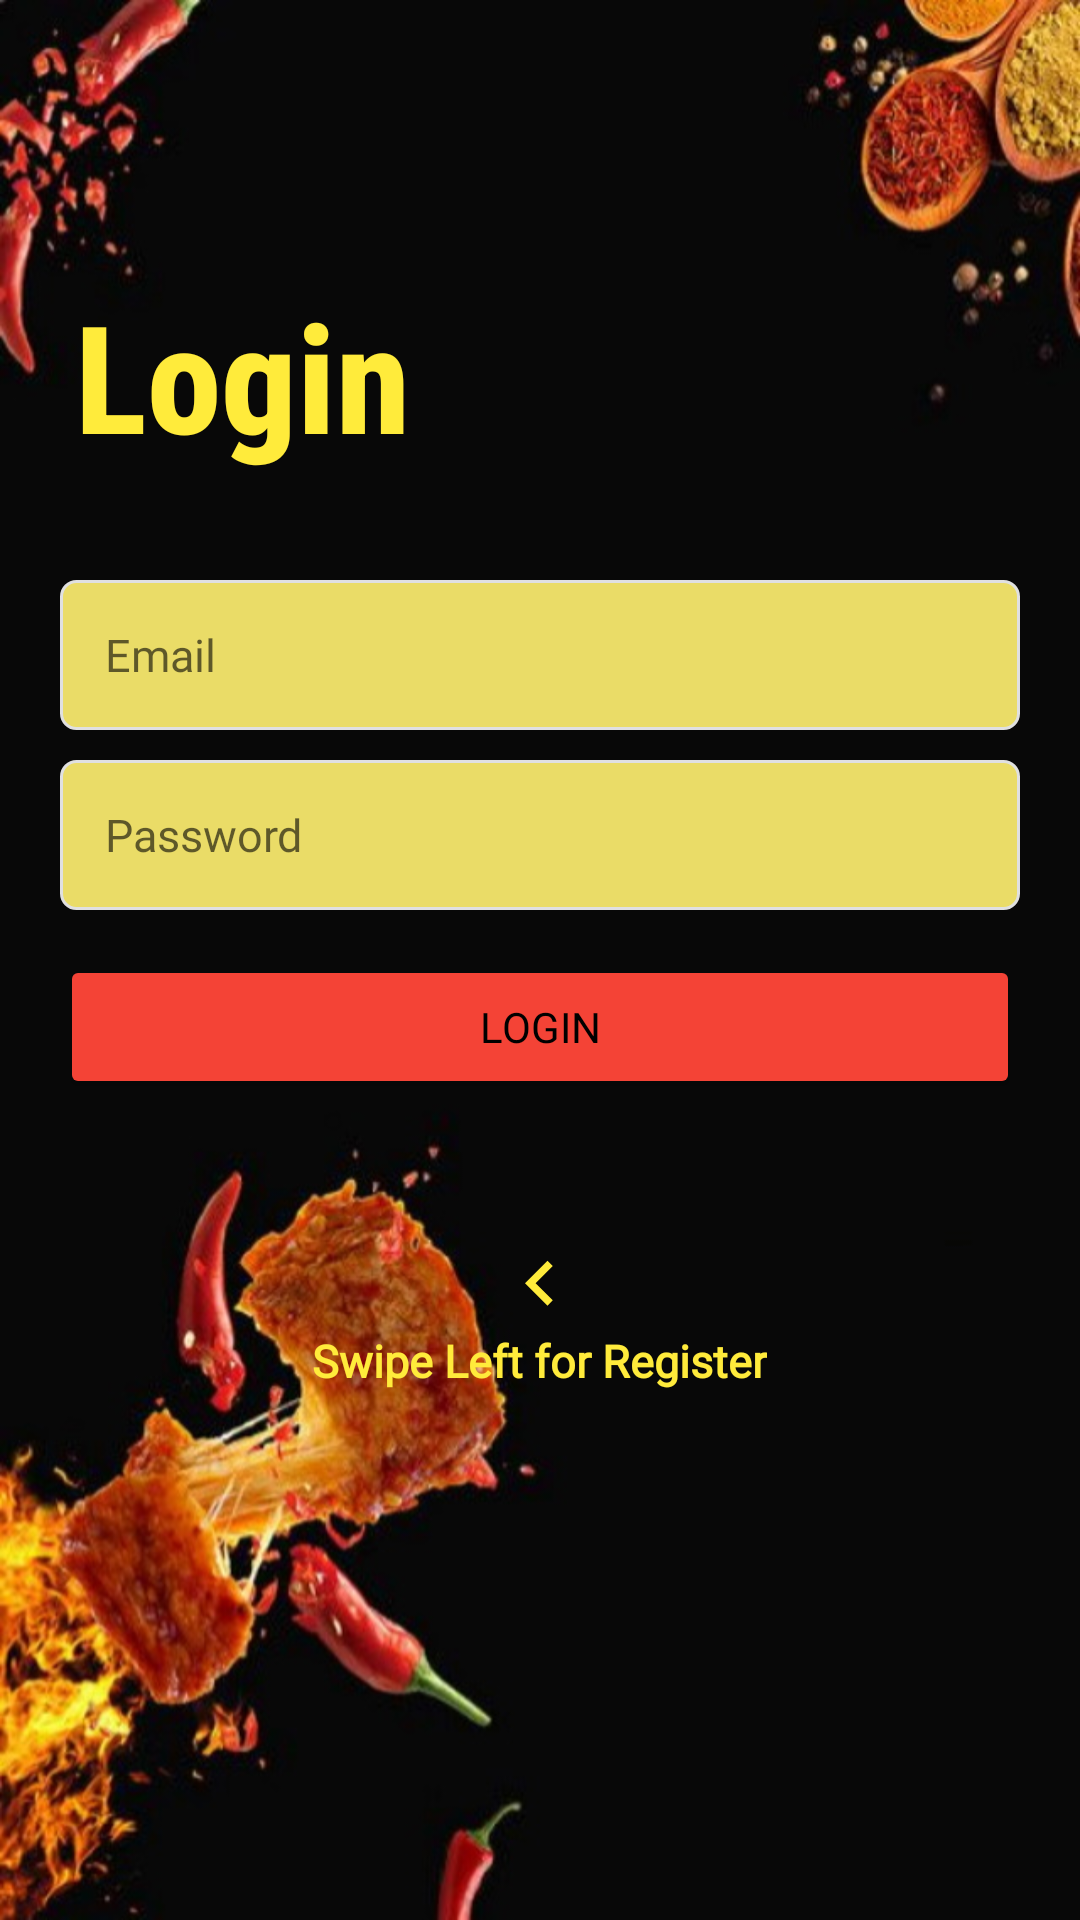

Named icons in this screenshot (1080*1920) and their centers, (x,y):
arrow left: (539,1283)
